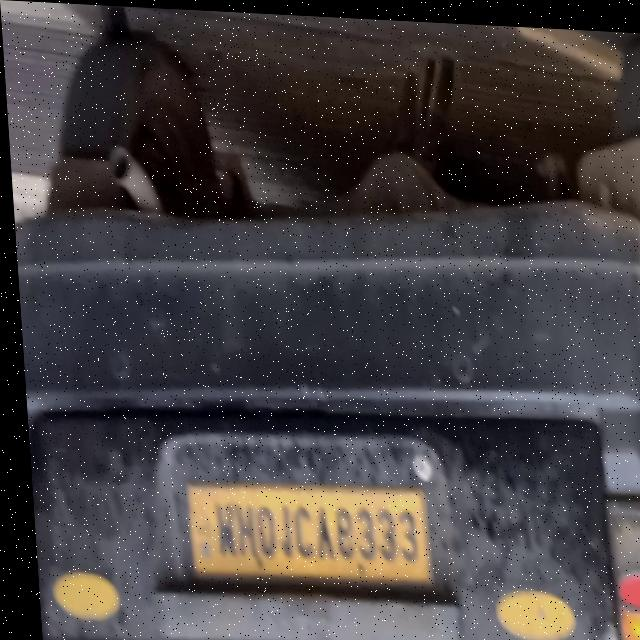plate: (177, 471, 428, 587)
